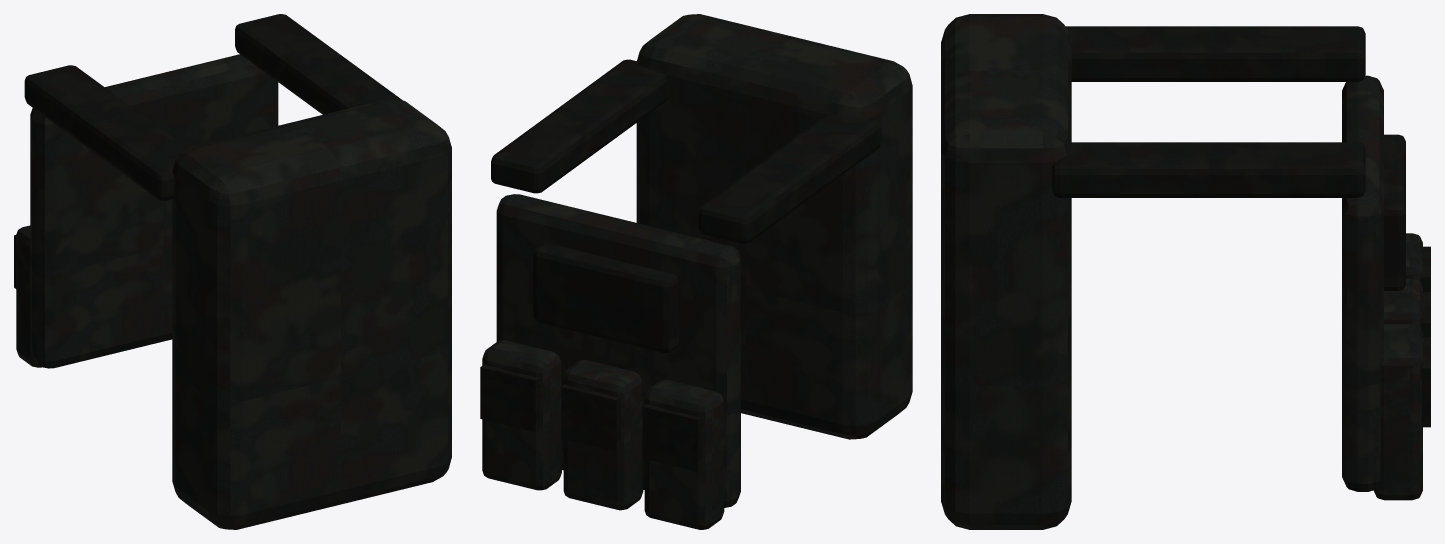
File: zombie_vest_gear.glb
3 renders of one model, left to right at view 1: azimuth 30°, elevation 25°; view 2: azimuth 150°, elevation 25°; view 3: azimuth 270°, elevation 25°, orthographic. The views are drawn at different scales.
Parts seen in each view (by area): view 1: Cube.010, Cube, Cube.008, Cube.009, Cube.001; view 2: Cube.010, Cube, Cube.007, Cube.008, Cube.009, Cube.001, Cube.003, Cube.005, Cube.006, Cube.002, Cube.004; view 3: Cube.010, Cube.009, Cube.008, Cube, Cube.005, Cube.007, Cube.003, Cube.006, Cube.001.
Part boxes in pixels (<box>): Cube.010: <box>172,99,451,529</box>; Cube: <box>30,54,278,368</box>; Cube.008: <box>24,65,187,200</box>; Cube.009: <box>235,14,402,114</box>; Cube.001: <box>16,225,41,367</box>; Cube.010: <box>636,14,912,439</box>; Cube: <box>496,194,740,507</box>; Cube.007: <box>533,243,678,352</box>; Cube.008: <box>698,114,881,243</box>; Cube.009: <box>491,59,667,193</box>; Cube.001: <box>644,379,724,529</box>; Cube.003: <box>563,359,643,510</box>; Cube.005: <box>482,340,561,490</box>; Cube.006: <box>480,364,539,432</box>; Cube.002: <box>642,403,701,471</box>; Cube.004: <box>561,384,620,451</box>; Cube.010: <box>941,14,1071,529</box>; Cube.009: <box>1052,142,1365,197</box>; Cube.008: <box>1066,26,1365,81</box>; Cube: <box>1342,75,1383,491</box>; Cube.005: <box>1373,324,1422,500</box>; Cube.007: <box>1384,134,1405,290</box>; Cube.003: <box>1384,278,1422,329</box>; Cube.006: <box>1421,337,1430,427</box>; Cube.001: <box>1406,233,1422,284</box>.
Bounding box in the file's own units: 0.262 × 0.34 × 0.375.
Materials: 2 (2 with a texture image).
